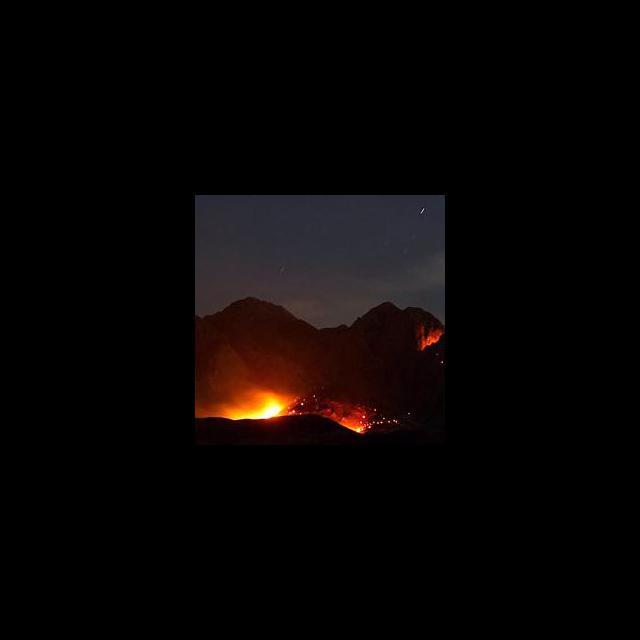Fire: (225, 393, 282, 421), (338, 414, 364, 434)
